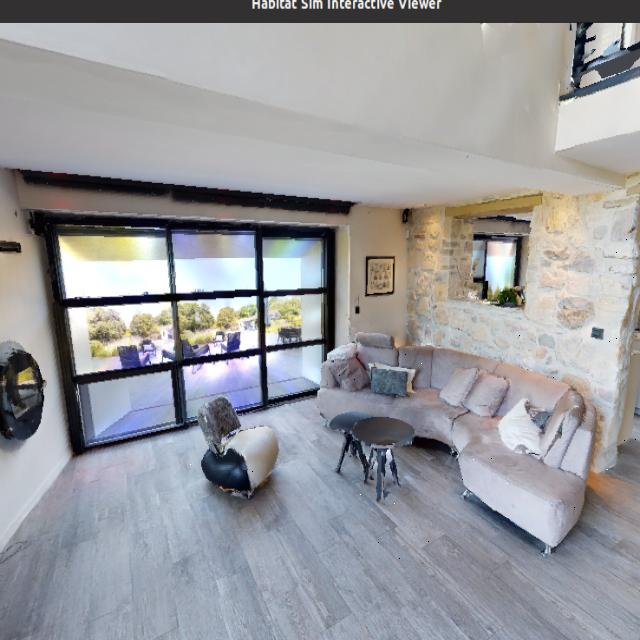door-frame: (606, 186, 640, 523)
sofa: (322, 324, 599, 559), (187, 396, 288, 503)
table: (329, 383, 412, 510)
